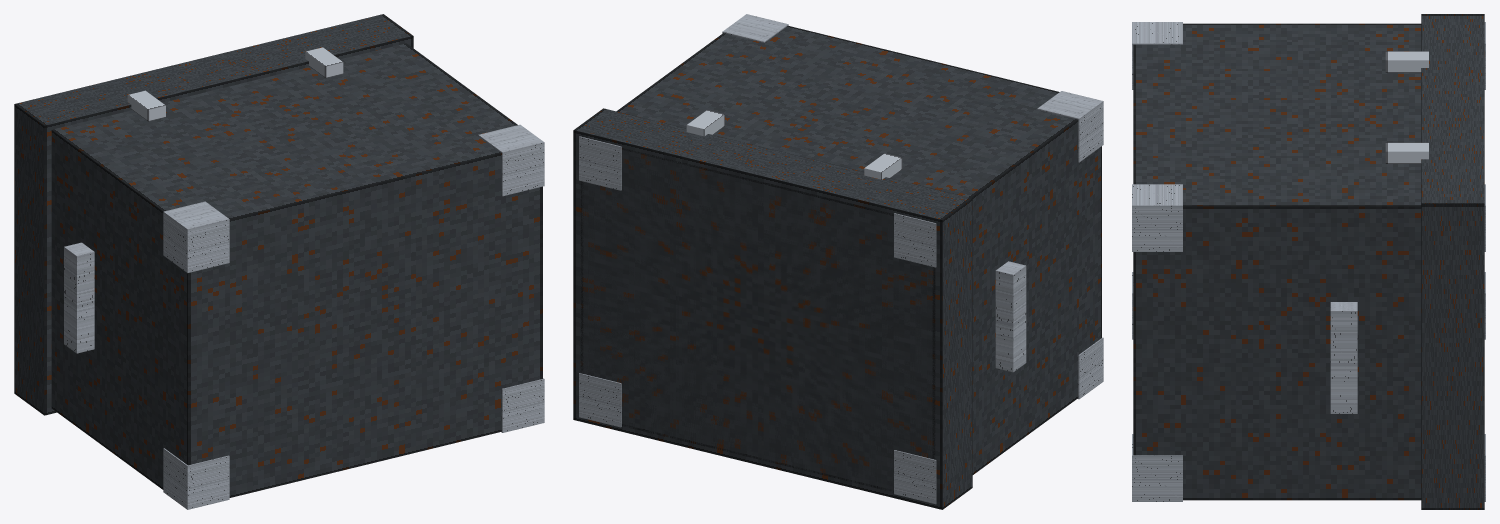
Rendered from crate_industrial_hazard.glb.
3 renders of one model, left to right at view 1: azimuth 30°, elevation 25°; view 2: azimuth 150°, elevation 25°; view 3: azimuth 270°, elevation 25°, orthographic. The views are drawn at different scales.
Parts seen in each view (by area): view 1: crate_industrial_hazard; view 2: crate_industrial_hazard; view 3: crate_industrial_hazard.
Boxes of the visible parts, x1,y1,x2,y2 form: crate_industrial_hazard: (14,14,544,509); crate_industrial_hazard: (573,14,1103,509); crate_industrial_hazard: (1132,14,1485,509).
Bounding box in the file's own units: 0.88 × 0.6395 × 0.6545.
Materials: 5 (5 with a texture image).
